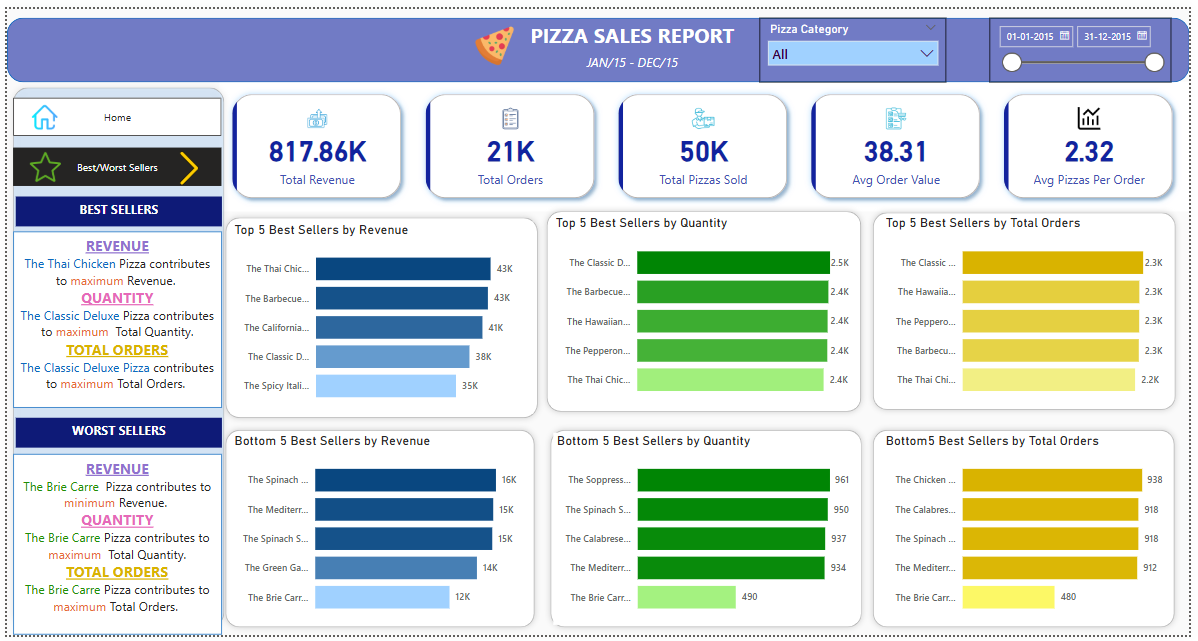

Layout of this report page (visuals, bound fields, positions):
{"tool":"powerbi","page":{"name":"Best/Worst Sellers","canvas":[1550,820],"ordinal":1},"visuals":[{"type":"cardVisual","fields":{"Data":["pizza_sales.Total_Revenue","pizza_sales.Total_orders","pizza_sales.total pizzas sold","pizza_sales.avg order value","pizza_sales.avg pizzas per order"]},"box":[278.9,95.8,1271.8,170.4],"z":0},{"type":"shape","box":[0,11.3,1550.7,84.5],"z":1000},{"type":"textbox","box":[671.4,11.4,295.7,58.6],"z":2000},{"type":"textbox","box":[743.7,53.5,152.1,36.6],"z":3000},{"type":"image","box":[608.6,11.4,62.9,72.9],"z":4000},{"type":"shape","box":[278.9,266.2,425.4,278.9],"z":5000},{"type":"shape","box":[700,257.7,428.2,278.9],"z":7000},{"type":"shape","box":[278.9,545.1,421.1,274.6],"z":9000},{"type":"shape","box":[0,95.8,293,723.9],"z":10000},{"type":"shape","box":[704.2,545.1,423.9,274.6],"z":11000},{"type":"shape","box":[1128.2,545.1,411.3,274.6],"z":12000},{"type":"textbox","box":[11.3,246.5,270.4,39.4],"z":16000},{"type":"textbox","box":[8.5,291.5,273.2,231],"z":17000},{"type":"textbox","box":[11.3,536.6,270.4,39.4],"z":18000},{"type":"textbox","box":[8.5,583.1,273.2,236.6],"z":19000},{"type":"slicer","fields":{"Values":["pizza_sales.pizza_category"]},"box":[987.3,11.3,245.1,84.5],"z":20000},{"type":"slicer","fields":{"Values":["pizza_sales.order_date"]},"box":[1288.7,11.3,238,84.5],"z":21000},{"type":"shape","box":[1128.2,259.2,412.7,274.6],"z":21001},{"type":"barChart","title":"Top 5 Best Sellers by Revenue","fields":{"Y":["pizza_sales.Total Revenue"],"Category":["pizza_sales.pizza_name"]},"box":[293,278.9,397.2,252.1],"z":21002},{"type":"barChart","title":"Bottom 5 Best Sellers by Revenue","fields":{"Y":["pizza_sales.Total Revenue"],"Category":["pizza_sales.pizza_name"]},"box":[293,556.3,393,252.1],"z":21003},{"type":"barChart","title":"Top 5 Best Sellers by Quantity","fields":{"Category":["pizza_sales.pizza_name"],"Y":["pizza_sales.Total Pizzas Sold"]},"box":[715.5,270.4,394.4,252.1],"z":21004},{"type":"barChart","title":"Bottom 5 Best Sellers by Quantity","fields":{"Category":["pizza_sales.pizza_name"],"Y":["pizza_sales.Total Pizzas Sold"]},"box":[716.9,556.3,393,252.1],"z":21005},{"type":"barChart","title":"Top 5 Best Sellers by Total Orders","fields":{"Category":["pizza_sales.pizza_name"],"Y":["pizza_sales.Total Orders"]},"box":[1147.9,270.4,373.2,252.1],"z":21006},{"type":"barChart","title":"Bottom5 Best Sellers by Total Orders","fields":{"Category":["pizza_sales.pizza_name"],"Y":["pizza_sales.Total Orders"]},"box":[1147.9,554.9,373.2,252.1],"z":21007},{"type":"pageNavigator","box":[8.5,181.7,273.2,50.7],"z":21008},{"type":"pageNavigator","box":[8.5,116.9,273.2,50.7],"z":21009},{"type":"image","box":[209.9,181.7,59.2,53.5],"z":21010},{"type":"image","box":[28.2,116.9,43.7,50.7],"z":21011},{"type":"image","box":[14.1,181.7,71.8,50.7],"z":21012}]}

Visuals, with their boxes in screenshot pixels (x1, y1, x2, y2), scaled from the page's 1550x820 canvas onto the 1198x641 screenshot:
cardVisual - pizza_sales.Total_Revenue x pizza_sales.Total_orders: (x1=216, y1=75, x2=1197, y2=208)
shape: (x1=0, y1=9, x2=1197, y2=75)
textbox: (x1=519, y1=9, x2=747, y2=55)
textbox: (x1=575, y1=42, x2=692, y2=70)
image: (x1=470, y1=9, x2=519, y2=66)
shape: (x1=216, y1=208, x2=544, y2=426)
shape: (x1=541, y1=201, x2=872, y2=419)
shape: (x1=216, y1=426, x2=541, y2=640)
shape: (x1=0, y1=75, x2=226, y2=640)
shape: (x1=544, y1=426, x2=872, y2=640)
shape: (x1=872, y1=426, x2=1190, y2=640)
textbox: (x1=9, y1=193, x2=218, y2=223)
textbox: (x1=7, y1=228, x2=218, y2=408)
textbox: (x1=9, y1=419, x2=218, y2=450)
textbox: (x1=7, y1=456, x2=218, y2=640)
slicer - pizza_sales.pizza_category: (x1=763, y1=9, x2=953, y2=75)
slicer - pizza_sales.order_date: (x1=996, y1=9, x2=1180, y2=75)
shape: (x1=872, y1=203, x2=1191, y2=417)
"Top 5 Best Sellers by Revenue" barChart: (x1=226, y1=218, x2=533, y2=415)
"Bottom 5 Best Sellers by Revenue" barChart: (x1=226, y1=435, x2=530, y2=632)
"Top 5 Best Sellers by Quantity" barChart: (x1=553, y1=211, x2=858, y2=408)
"Bottom 5 Best Sellers by Quantity" barChart: (x1=554, y1=435, x2=858, y2=632)
"Top 5 Best Sellers by Total Orders" barChart: (x1=887, y1=211, x2=1176, y2=408)
"Bottom5 Best Sellers by Total Orders" barChart: (x1=887, y1=434, x2=1176, y2=631)
pageNavigator: (x1=7, y1=142, x2=218, y2=182)
pageNavigator: (x1=7, y1=91, x2=218, y2=131)
image: (x1=162, y1=142, x2=208, y2=184)
image: (x1=22, y1=91, x2=56, y2=131)
image: (x1=11, y1=142, x2=66, y2=182)
